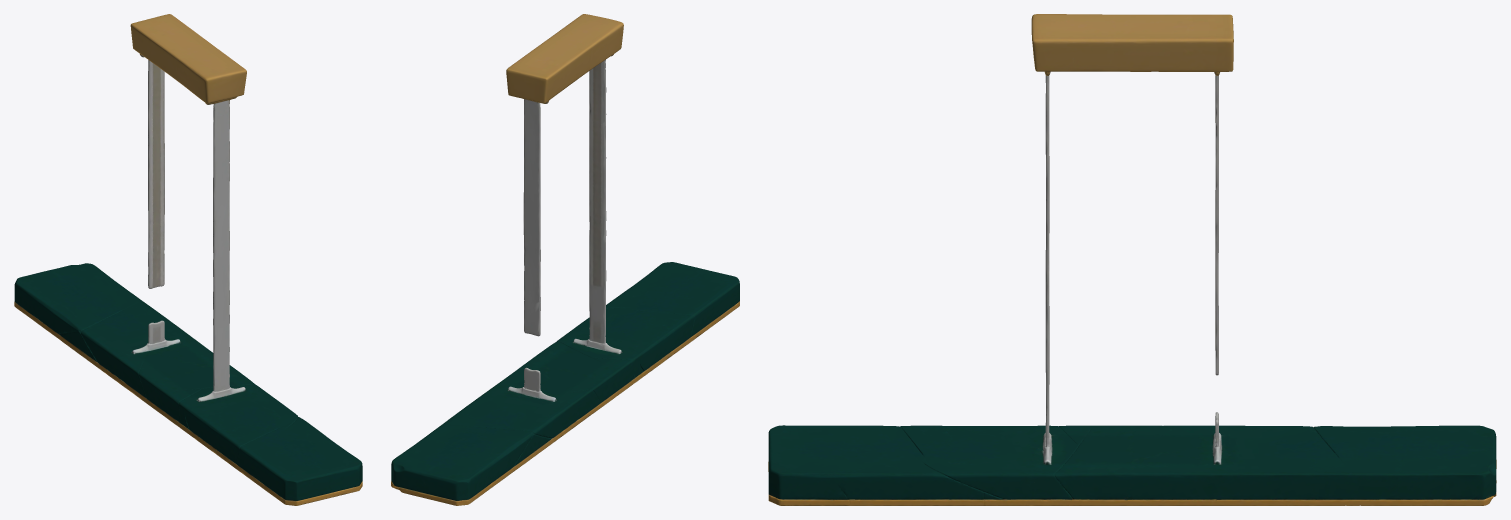
3 views of the same model, side by side, from view 1: azimuth 30°, elevation 25°; view 2: azimuth 150°, elevation 25°; view 3: azimuth 270°, elevation 25° (orthographic). The views are drawn at different scales.
Parts seen in each view (by area): view 1: tripo_node_feff8325-ec3a-47dd-8bbc-e26b722d47a7; view 2: tripo_node_feff8325-ec3a-47dd-8bbc-e26b722d47a7; view 3: tripo_node_feff8325-ec3a-47dd-8bbc-e26b722d47a7.
Part boxes in pixels (x1,y1,x2,y2): tripo_node_feff8325-ec3a-47dd-8bbc-e26b722d47a7: [14, 14, 362, 505]; tripo_node_feff8325-ec3a-47dd-8bbc-e26b722d47a7: [391, 14, 739, 505]; tripo_node_feff8325-ec3a-47dd-8bbc-e26b722d47a7: [768, 14, 1496, 505].
Bounding box in the file's own units: 0.1401 × 0.6 × 0.8686.
1 material, 1 textured.
